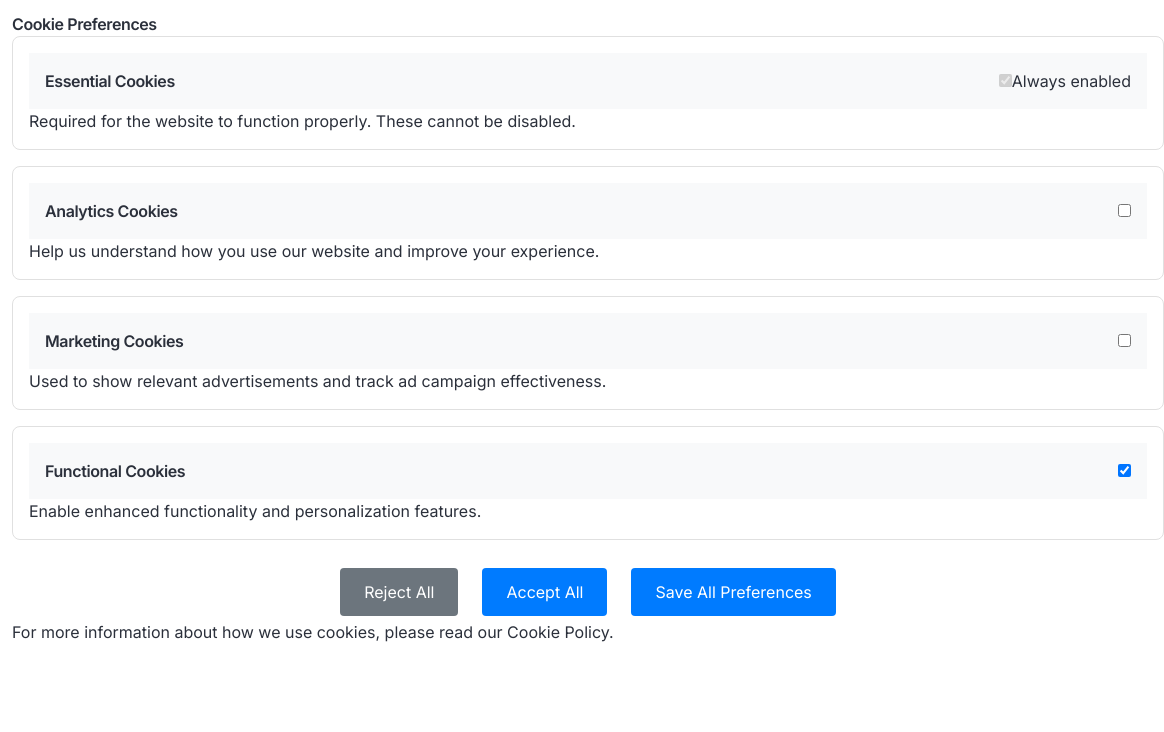
Scenario: CookiePreferences Component › should show loading state during update
This screenshot has width=1164, height=732.
Click the switch named "Analytics Cookies" at (1124, 210), box 1118,204 -> 1131,217
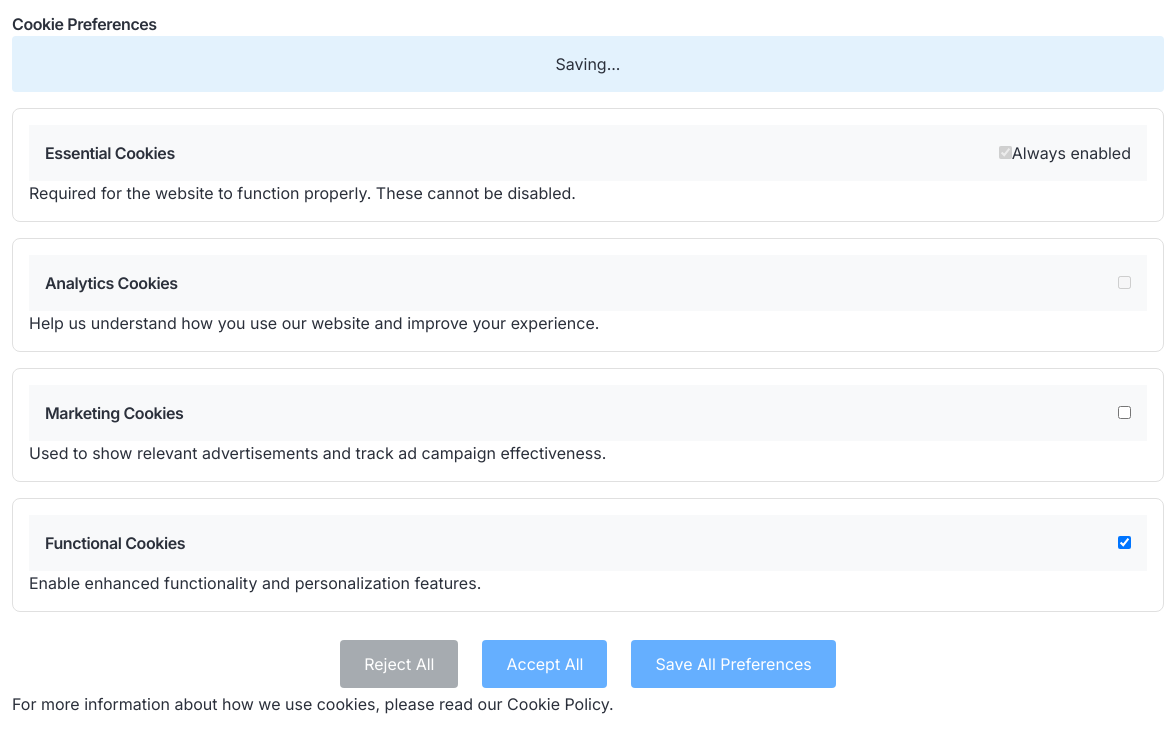
Check: the text "Saving..." is shown, box 12,36 -> 1163,92
